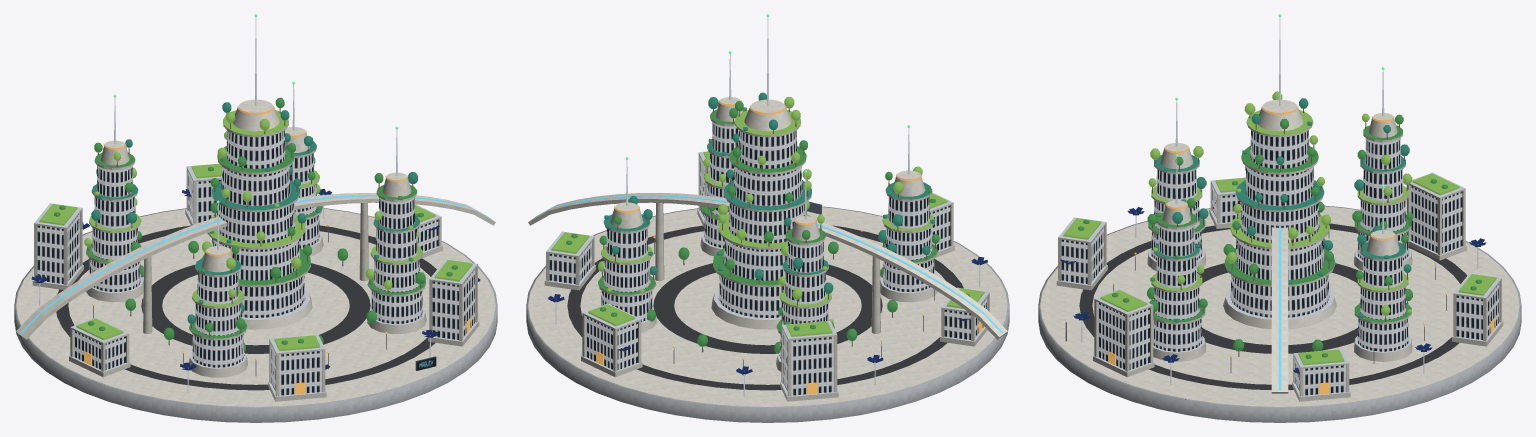
The model's file is earth_arcology_town.glb.
The picture shows the model from 3 angles, left to right: view 1: azimuth 30°, elevation 25°; view 2: azimuth 150°, elevation 25°; view 3: azimuth 270°, elevation 25°; orthographic projection.
Parts seen in each view (by area): view 1: earth_arcology_town_LOD0; view 2: earth_arcology_town_LOD0; view 3: earth_arcology_town_LOD0.
Part boxes in pixels (x1,y1,x2,y2): earth_arcology_town_LOD0: (14,14,497,422); earth_arcology_town_LOD0: (526,14,1009,422); earth_arcology_town_LOD0: (1038,14,1521,422).
Size of what is drawn, in the model's own units: 104 by 64.96 by 92.8.
3 materials, 3 textured.
